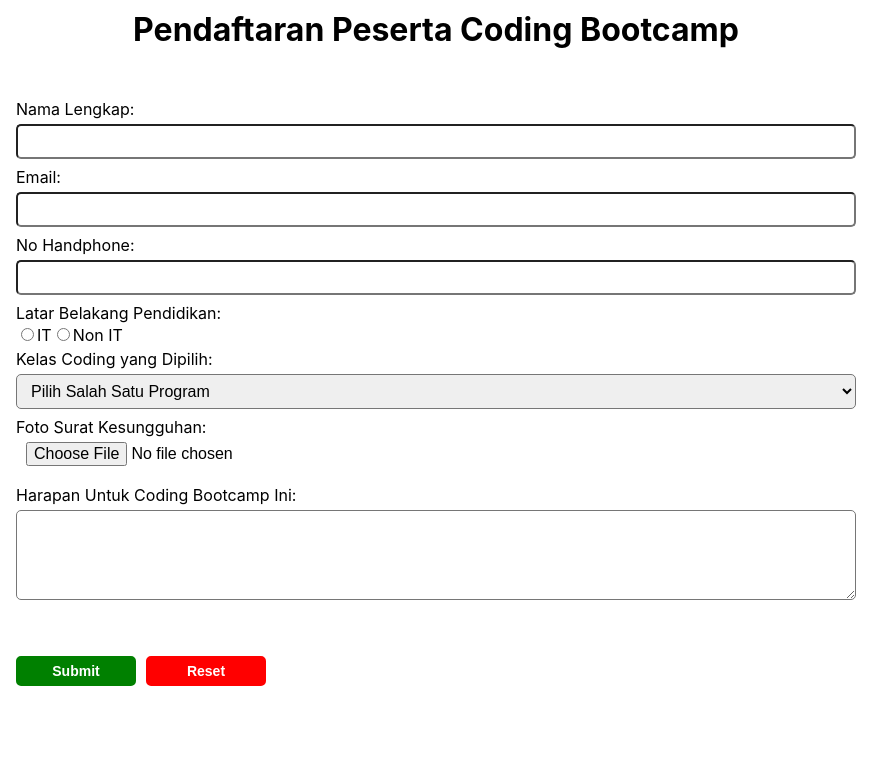
Scenario: FormCoding › input data error
The image size is (873, 779).
Note: input data
Type "Muhamad Jaya1" into the field labelled "Nama Lengkap:" at (436, 142), box [16,124,856,159]
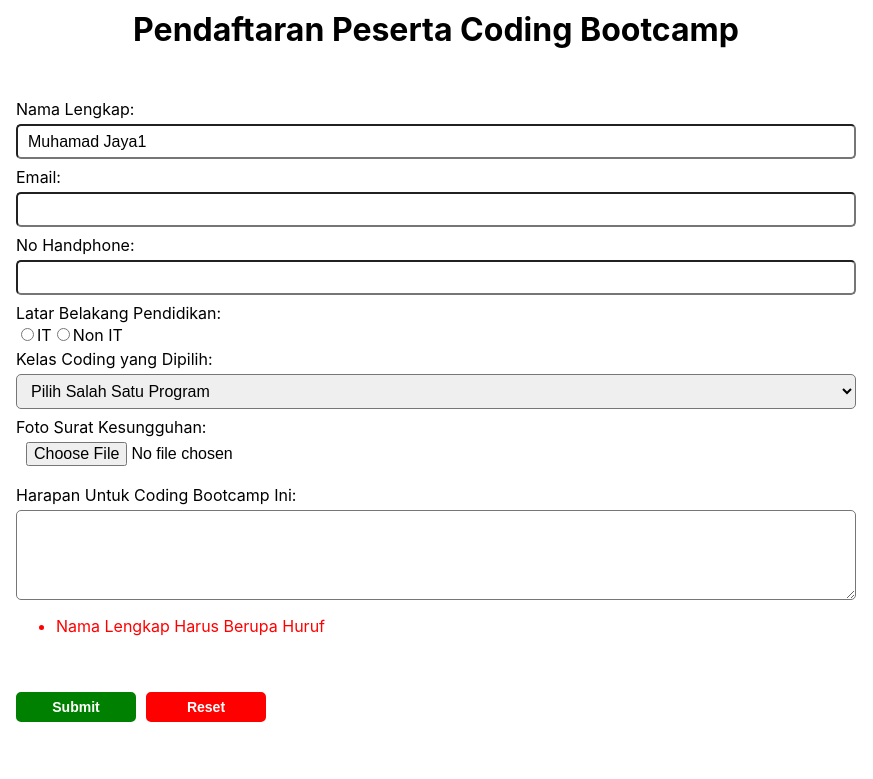
Type "jayamuhamad99" into the field labelled "Email:" at (436, 210), box [16,192,856,227]
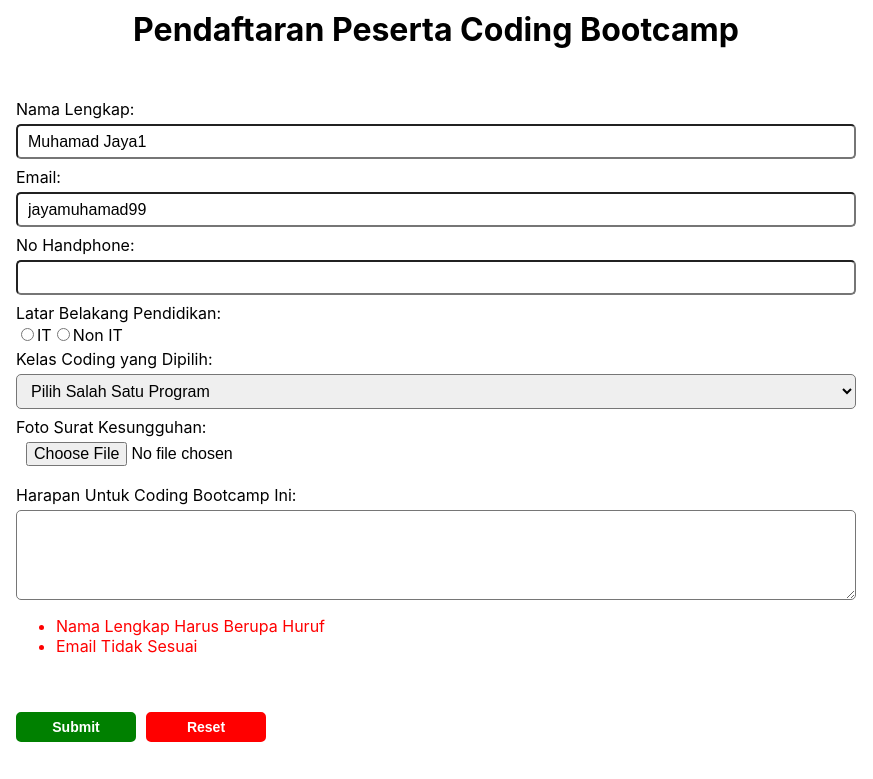
Type "087876151046087876151046" into the number field labelled "No Handphone:" at (436, 278), box [16,260,856,295]
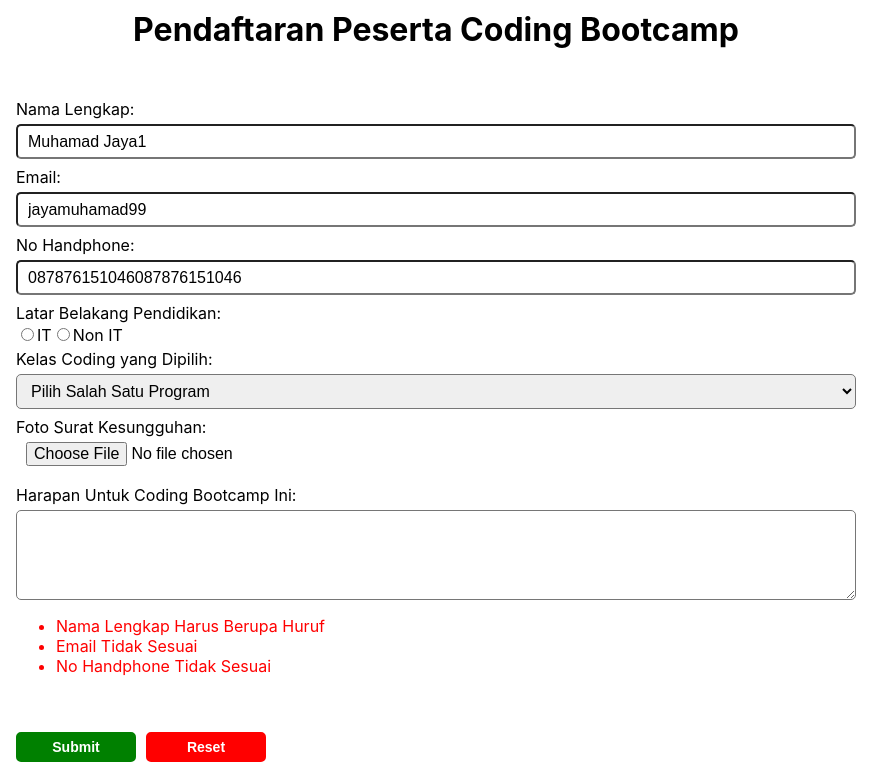
Result: the list item "Nama Lengkap Harus Berupa Huruf" is shown at [56,616,325,636]
Result: the list item "Email Tidak Sesuai" is shown at [56,636,198,656]
Result: the list item "No Handphone Tidak Sesuai" is shown at [56,656,271,676]
